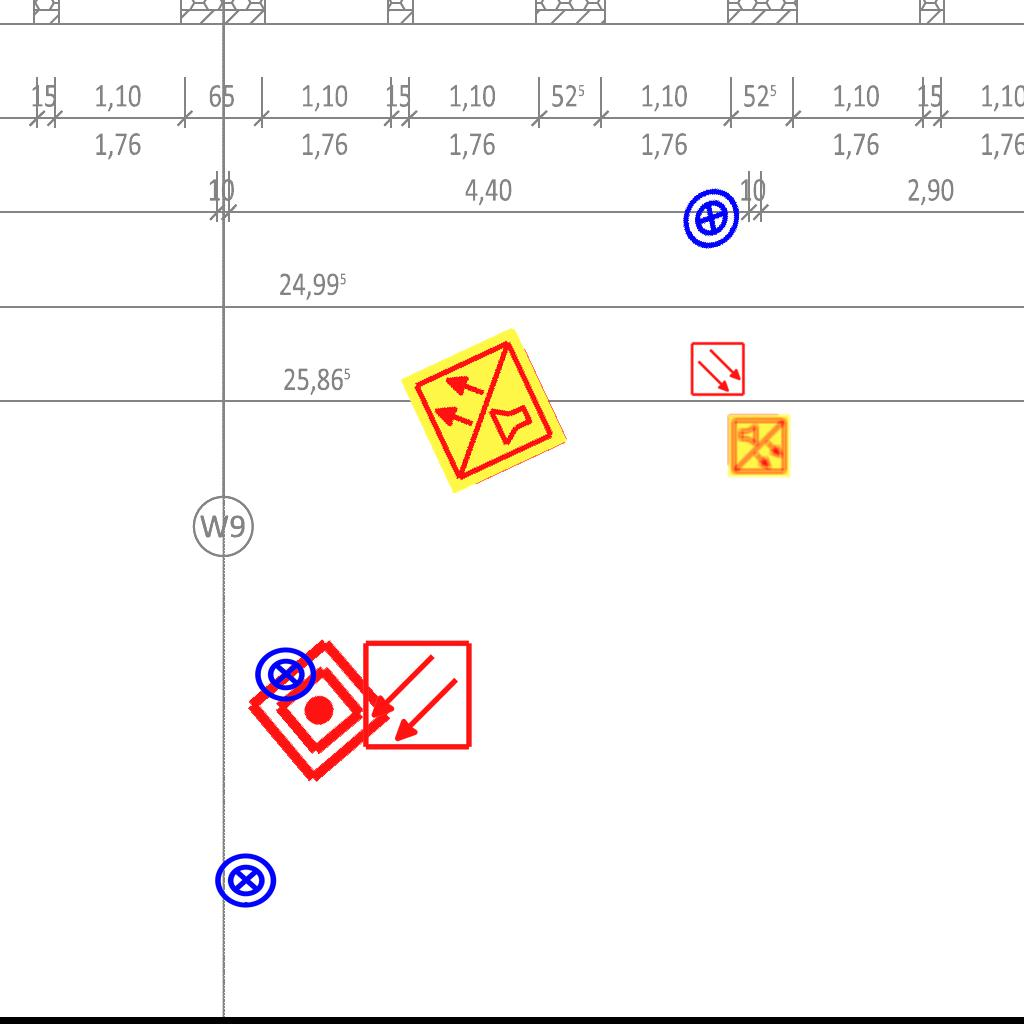NAM-Nichtautomatischer_Melder: (239, 630, 400, 791)
OKW_Multisensormelder_(Kombination_optischer_Rauch-Kahlenmonoxid_Waerme-Melder): (396, 322, 572, 498), (726, 413, 792, 479)
RMO_Rauchmelder_optischer: (361, 639, 474, 752), (690, 341, 746, 397)
Taster_beleuchtet: (666, 173, 756, 263), (213, 847, 279, 913), (253, 641, 319, 707)
